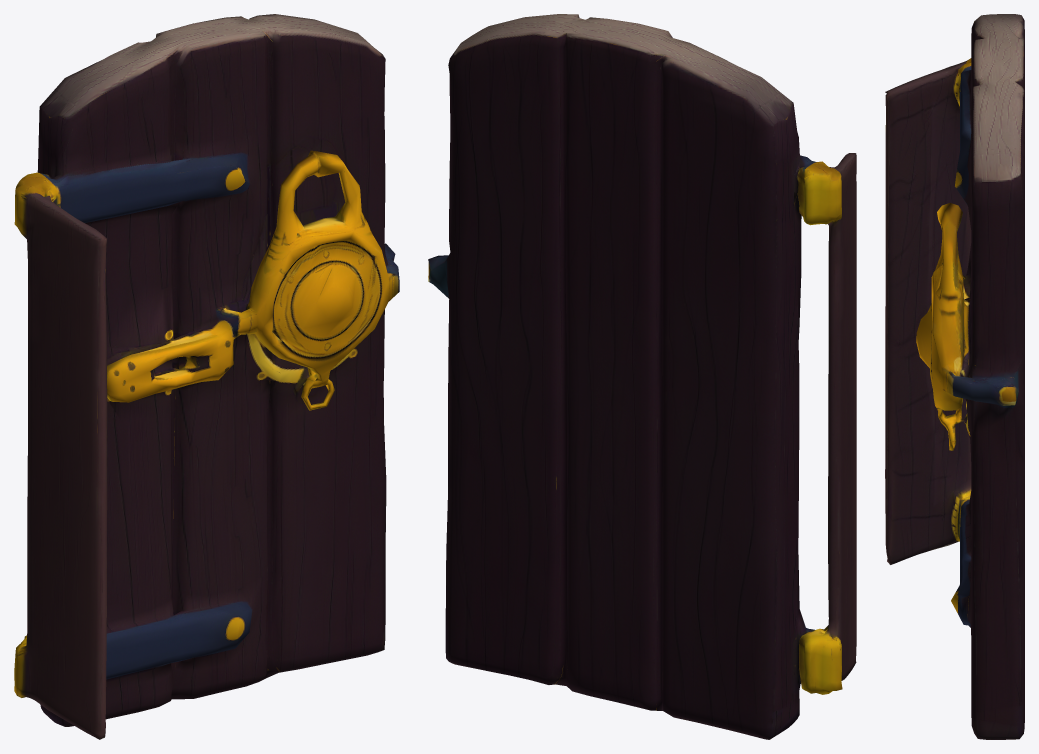
Rendered from z0_door.glb.
3 views of the same model, side by side, from view 1: azimuth 30°, elevation 25°; view 2: azimuth 150°, elevation 25°; view 3: azimuth 270°, elevation 25° (orthographic). The views are drawn at different scales.
Bounding box in the file's own units: 1.19 × 1.91 × 0.3947.
Materials: 1 (1 with a texture image).
